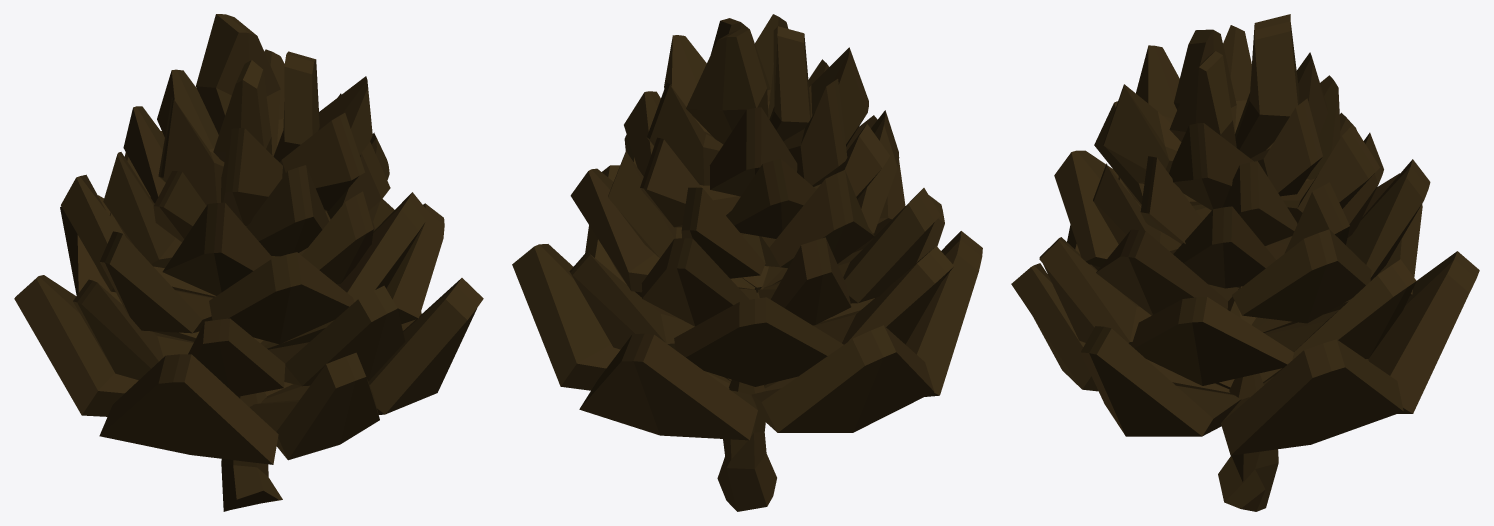
3 renders of one model, left to right at view 1: azimuth 30°, elevation 25°; view 2: azimuth 150°, elevation 25°; view 3: azimuth 270°, elevation 25°, orthographic.
Parts seen in each view (by area): view 1: Cube.7635; view 2: Cube.7635; view 3: Cube.7635.
Boxes of the visible parts, <box> form: Cube.7635: <box>14,14,483,511</box>; Cube.7635: <box>512,14,982,511</box>; Cube.7635: <box>1011,14,1479,511</box>.
Bounding box in the file's own units: 58.96 × 72.14 × 62.72.
